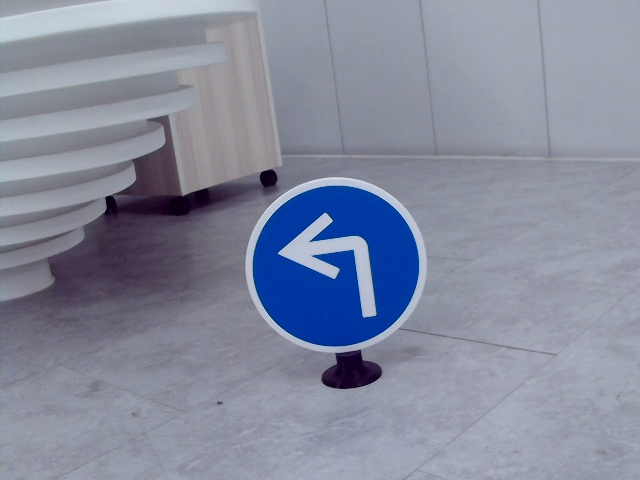turn_left: (279, 206, 384, 320)
